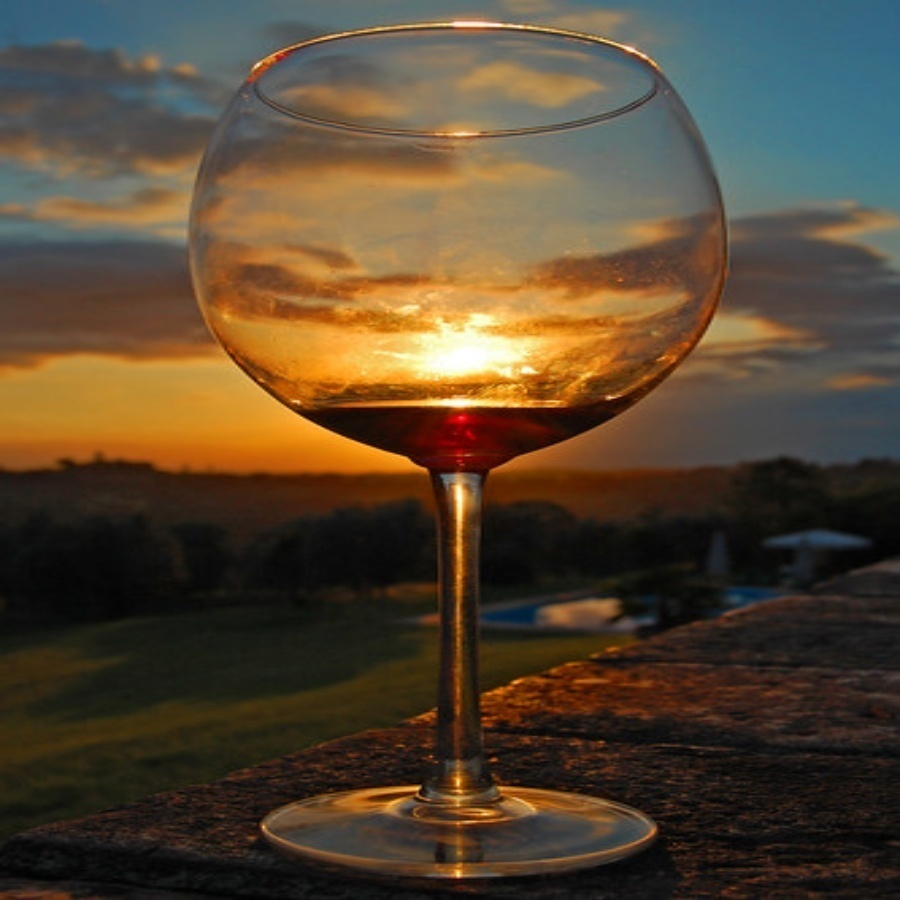whiskey: (183, 28, 708, 466)
